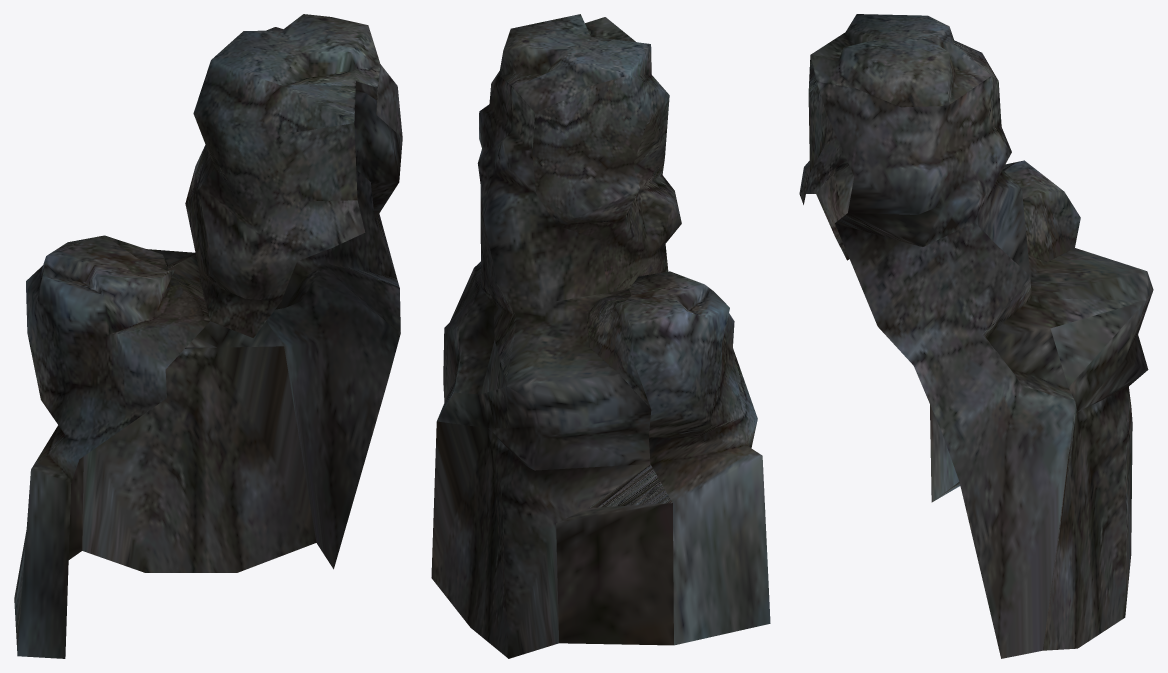
Rendered from S_Rock_Yellow034_H50.FBX.
The picture shows the model from 3 angles, left to right: view 1: azimuth 30°, elevation 25°; view 2: azimuth 150°, elevation 25°; view 3: azimuth 270°, elevation 25°; orthographic projection. The views are drawn at different scales.
Visible parts, largest first — view 1: S_Rock_Yellow034_H50; view 2: S_Rock_Yellow034_H50; view 3: S_Rock_Yellow034_H50.
Part boxes in pixels (<box>): S_Rock_Yellow034_H50: <box>14,14,402,658</box>; S_Rock_Yellow034_H50: <box>431,14,770,658</box>; S_Rock_Yellow034_H50: <box>799,14,1153,658</box>.
Size of the model in its own units: 1155 by 962 by 1799.
1 material, 1 textured.
